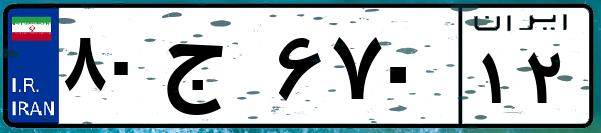0: (385, 28, 445, 110), (110, 28, 158, 98)
1: (475, 38, 525, 113)
2: (525, 38, 570, 115)
6: (270, 28, 330, 110)
7: (330, 28, 385, 110)
8: (57, 26, 110, 100)
ج: (158, 20, 270, 120)
